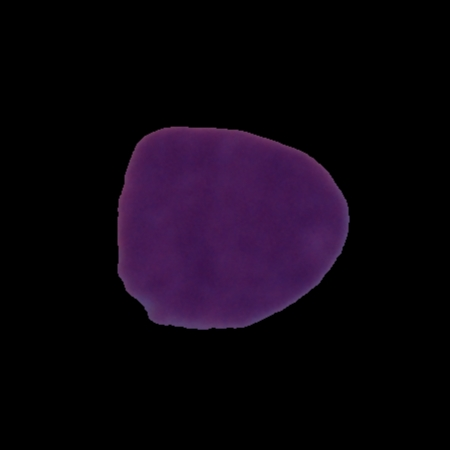ALL: (111, 121, 354, 337)
